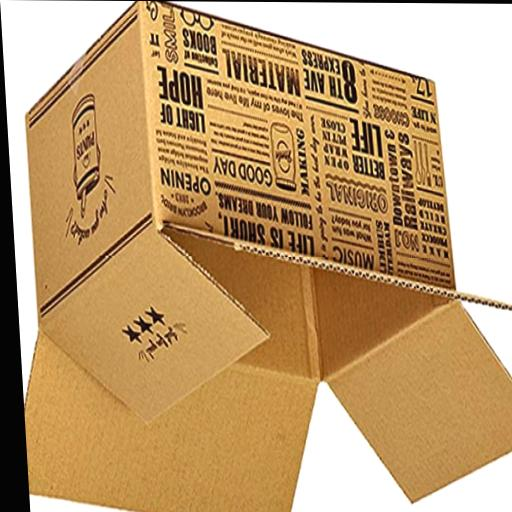box: (1, 1, 511, 512)
opened: (4, 221, 512, 509)
